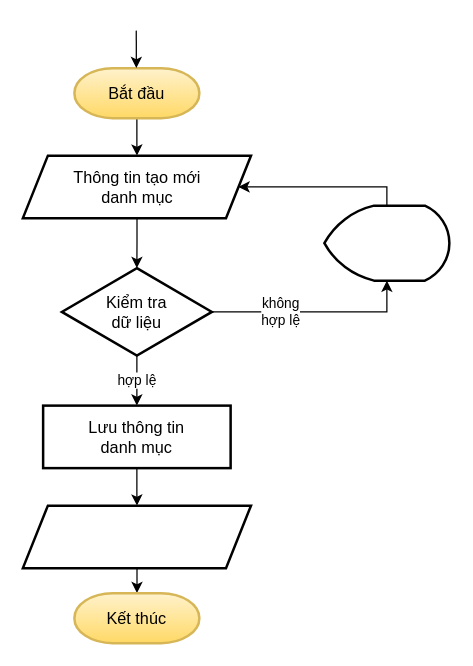
Image size: 473x666. Some labels were removed from this diagram. Each missing label, with the centre of its shape:
Thông báo lỗi: (x=386, y=242)
Thông tin khu vực vừa tạo: (x=136, y=536)
